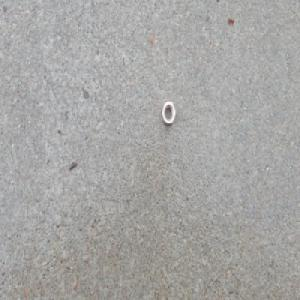Nut: (161, 100, 176, 126)
